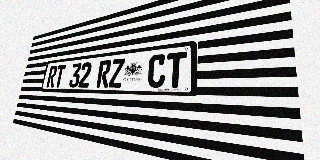2: (78, 62, 92, 88)
3: (68, 63, 82, 88)
C: (147, 54, 167, 88)
R: (96, 60, 112, 88), (46, 65, 58, 87)
T: (165, 51, 187, 88), (54, 65, 66, 87)
Z: (108, 58, 125, 88)
